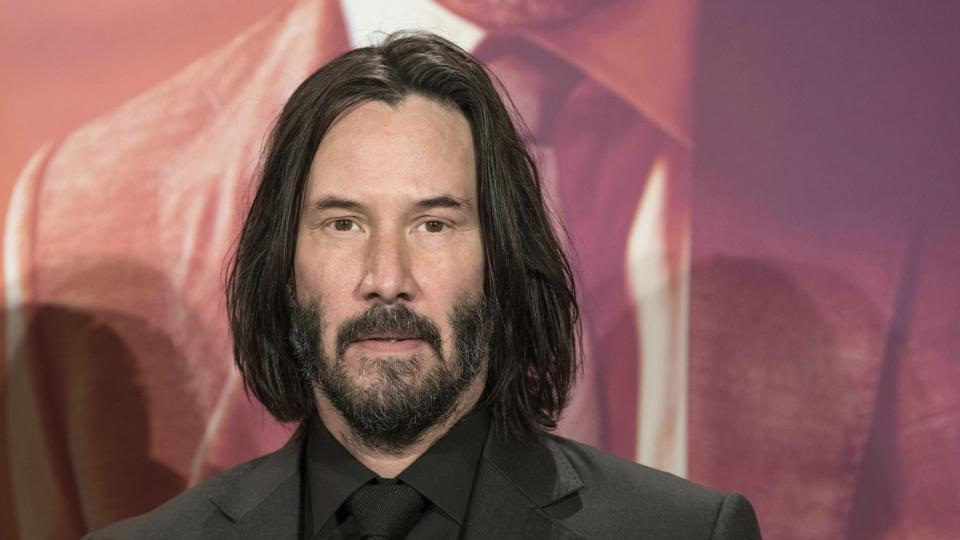NoMask: (298, 179, 481, 443)
